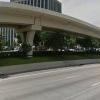Bridge: (3, 0, 95, 47)
